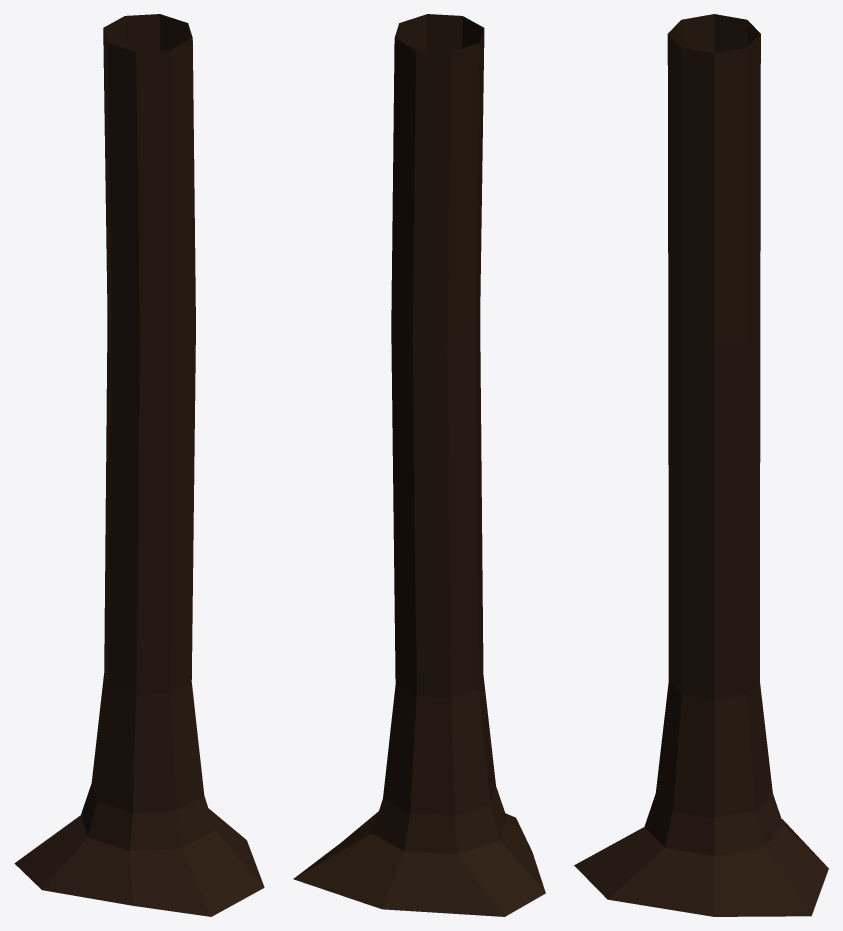
File: s_tree_01.FBX
The picture shows the model from 3 angles, left to right: view 1: azimuth 30°, elevation 25°; view 2: azimuth 150°, elevation 25°; view 3: azimuth 270°, elevation 25°; orthographic projection.
Visible parts, largest first — view 1: s_tree_01; view 2: s_tree_01; view 3: s_tree_01.
Boxes of the visible parts, x1=… form: s_tree_01: x1=14, y1=14, x2=264, y2=916; s_tree_01: x1=293, y1=14, x2=545, y2=916; s_tree_01: x1=574, y1=14, x2=828, y2=916.
Bounding box in the file's own units: 1.01 × 3.92 × 1.08.
